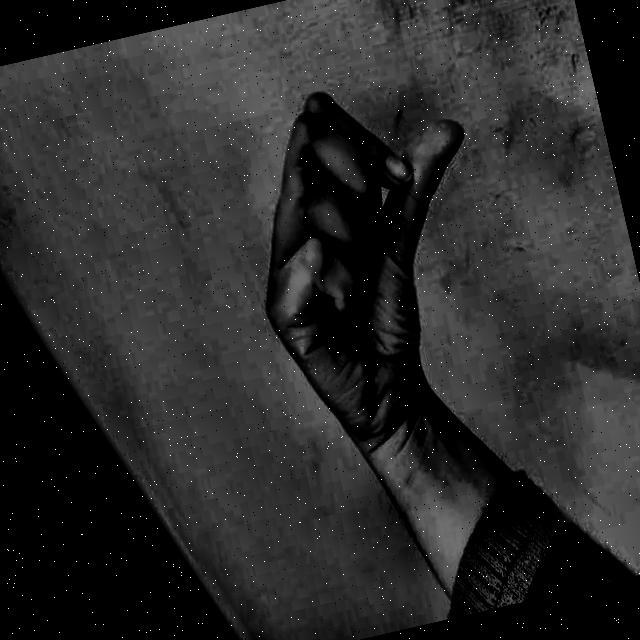Ay: (200, 24, 548, 468)
